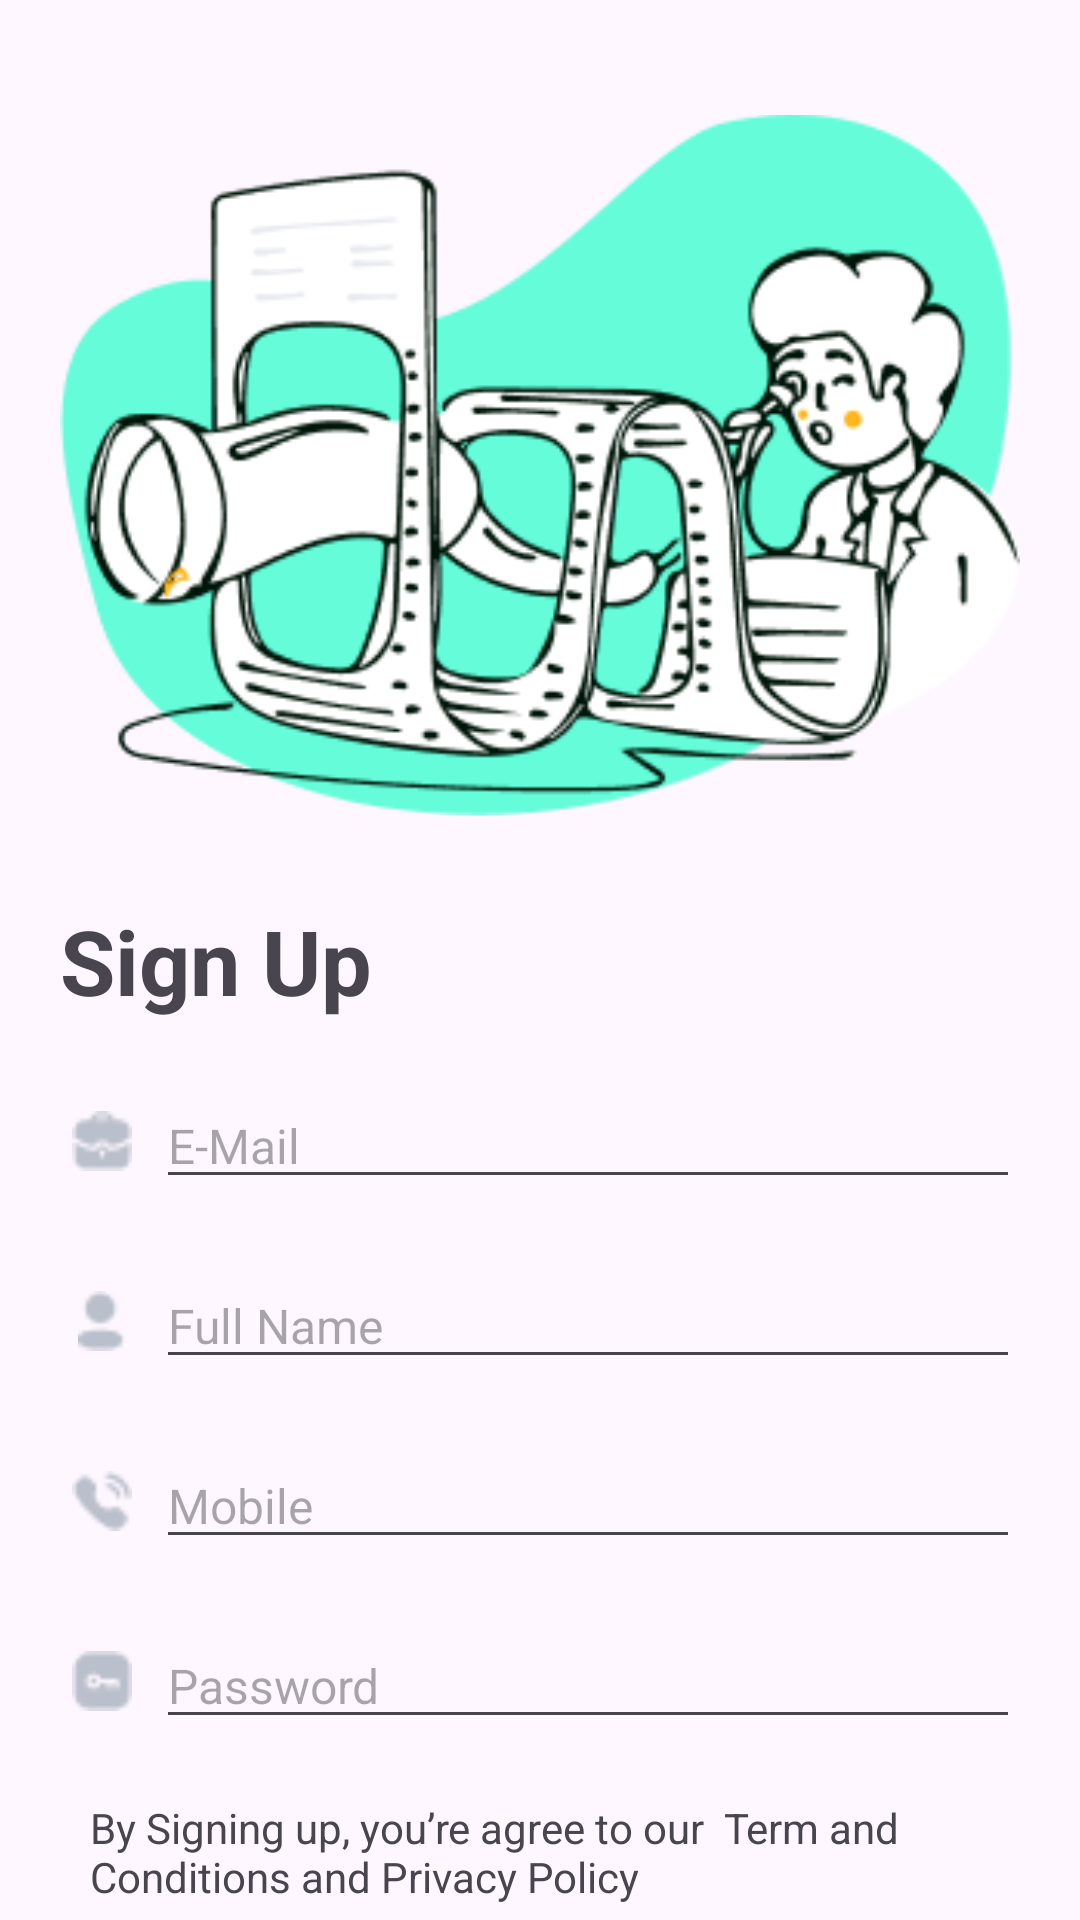

Icon bounding boxes for this 1080 × 1920 phone screenshot, format (x1, y1, x2, y2):
calling: (72, 1473, 132, 1531)
profile: (78, 1291, 123, 1351)
work: (72, 1111, 132, 1171)
